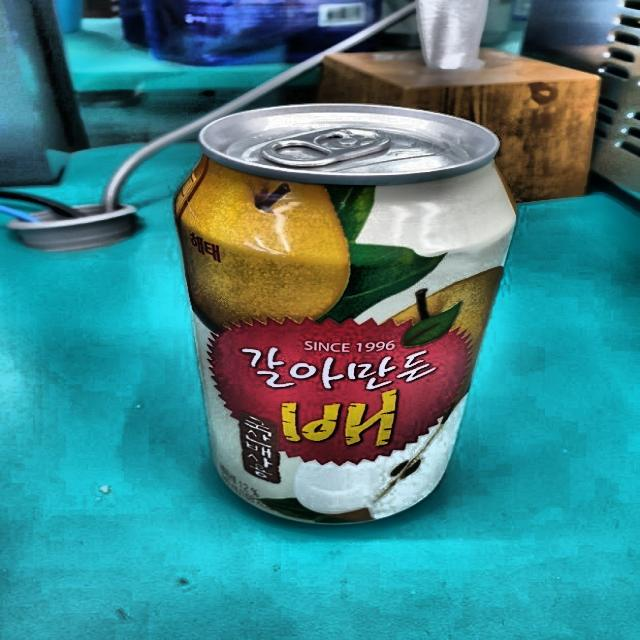galamandeunbae: (180, 110, 522, 526)
